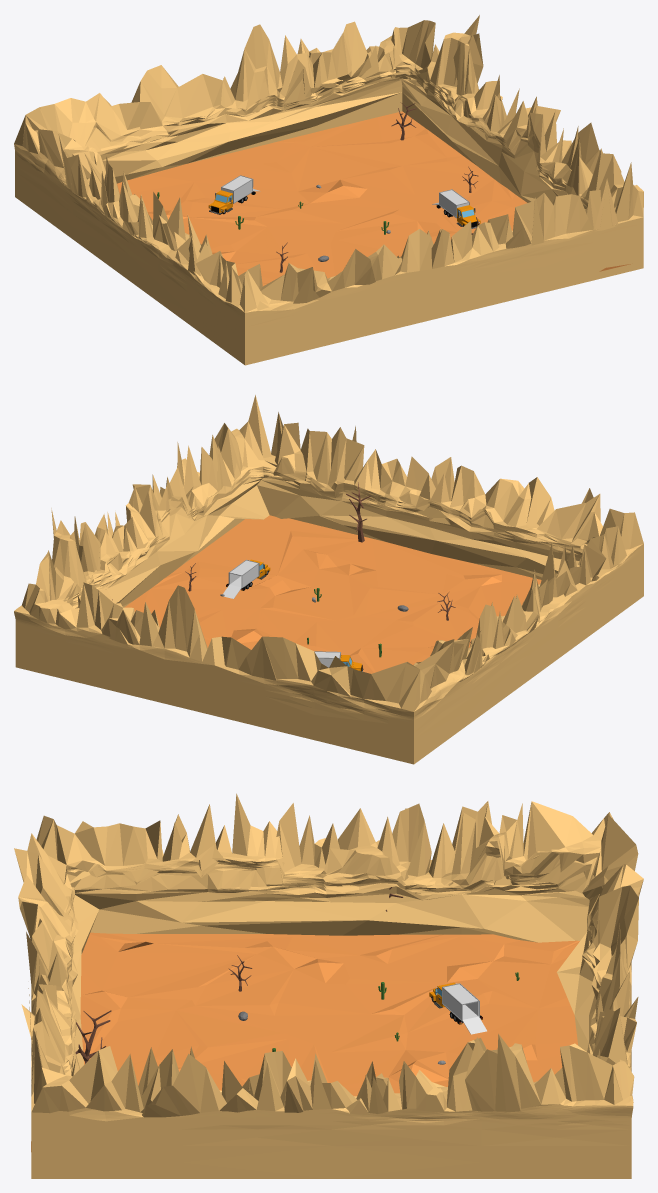
File: Desert.fbx
3 renders of one model, top to bottom at view 1: azimuth 30°, elevation 25°; view 2: azimuth 150°, elevation 25°; view 3: azimuth 270°, elevation 25°, orthographic. The views are drawn at different scales.
Parts seen in each view (by area): view 1: Cube.040, Plane; view 2: Cube.040, Plane; view 3: Cube.040, Plane, Cube.101.
Part boxes in pixels (bbox=[...]): Cube.040: bbox=[14, 15, 643, 365]; Plane: bbox=[117, 111, 630, 286]; Cube.040: bbox=[14, 395, 643, 764]; Plane: bbox=[124, 515, 541, 673]; Cube.040: bbox=[14, 793, 643, 1178]; Plane: bbox=[31, 932, 579, 1151]; Cube.101: bbox=[443, 984, 478, 1019].
Bounding box in the file's own units: 2117 × 588 × 2099.
